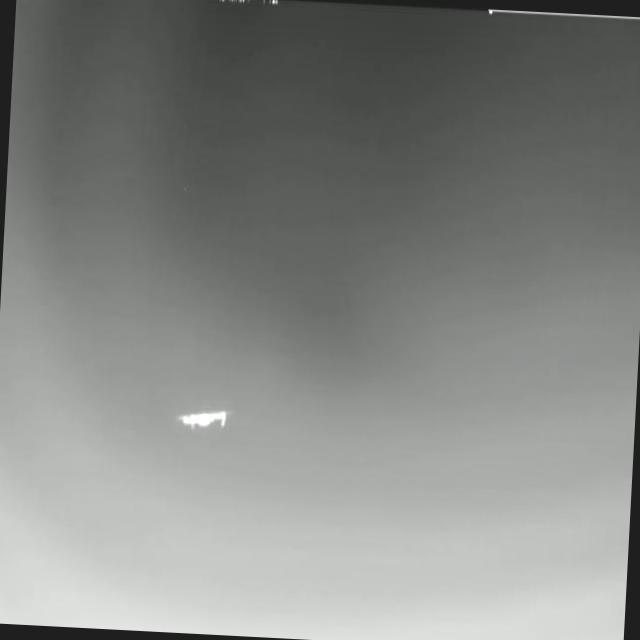DRONE: (170, 396, 232, 439)
